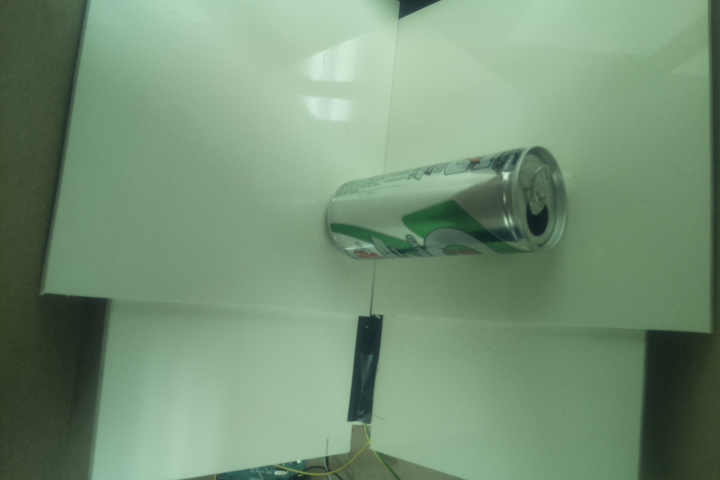can: (325, 146, 569, 262)
